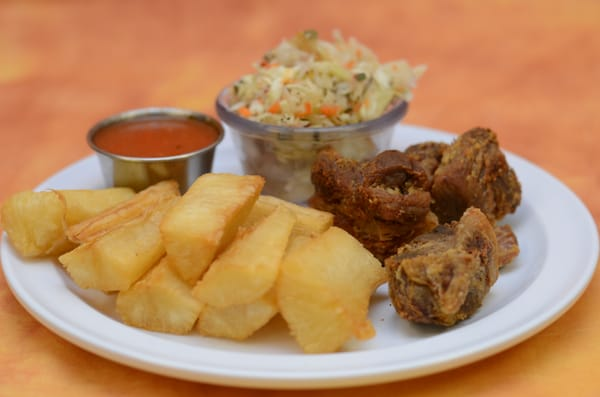sushi: (215, 35, 418, 202), (85, 106, 225, 195)
